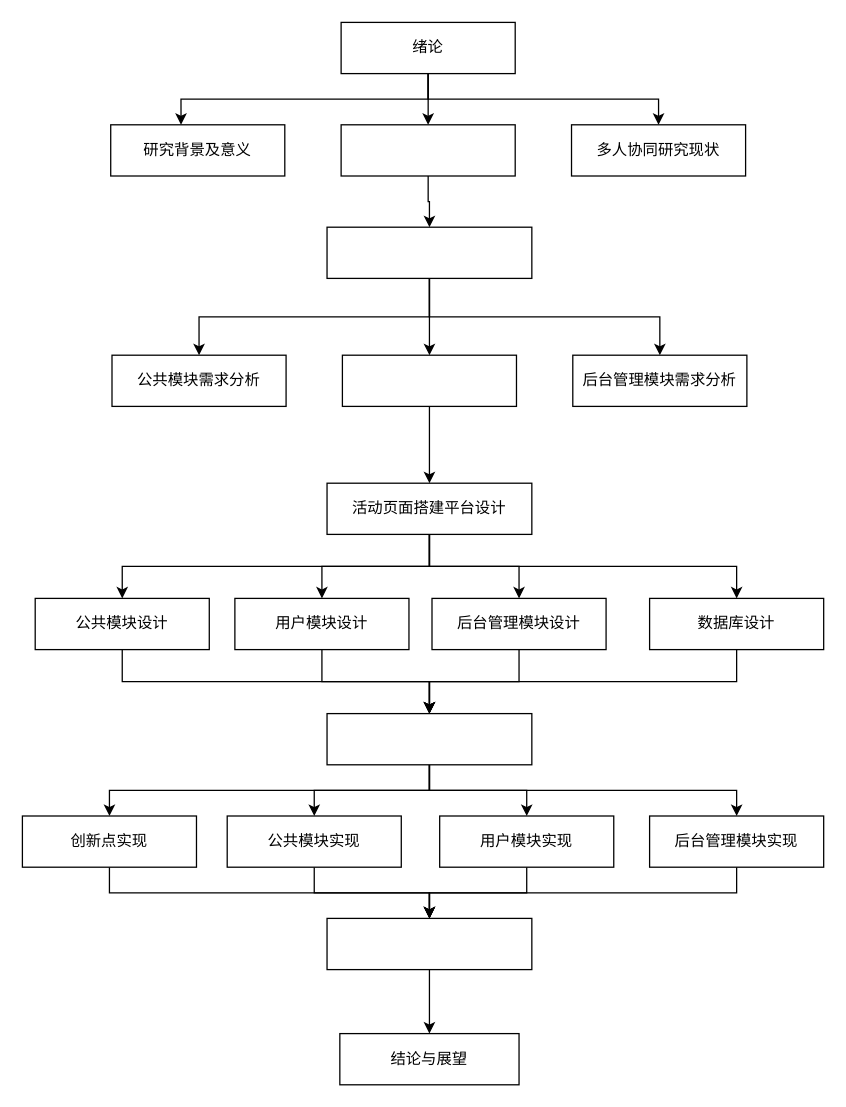
This 846x1107 diagram has some shape labels left out. Here are the shapes that lost their labels. From the top down, the centre of each, then its label:
pixel 427 150: 低代码研究现状
pixel 429 252: 活动页面搭建平台需求分析
pixel 428 380: 用户模块需求分析
pixel 429 738: 活动页面搭建平台实现
pixel 429 943: 活动页面搭建平台功能测试
